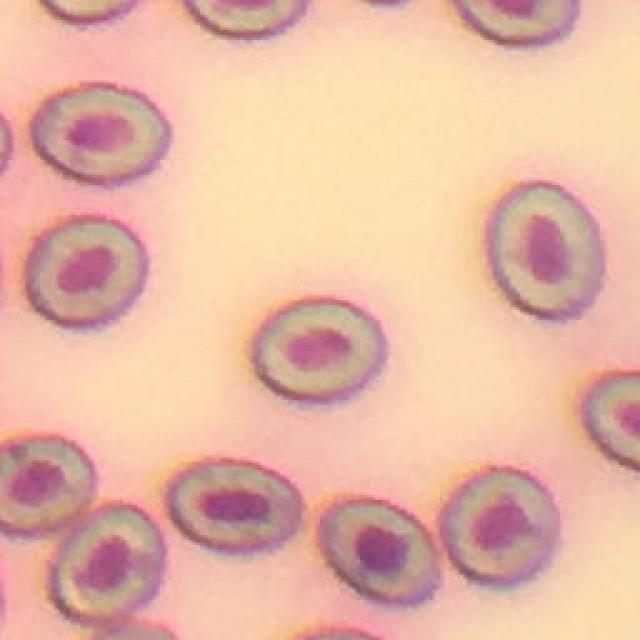RBC: (484, 180, 605, 322), (28, 83, 175, 190), (46, 501, 168, 626), (247, 297, 388, 405), (437, 466, 561, 587), (22, 215, 148, 331), (317, 495, 443, 609), (165, 457, 304, 555), (0, 433, 98, 541), (449, 0, 581, 49), (579, 370, 640, 472), (185, 1, 306, 37)
